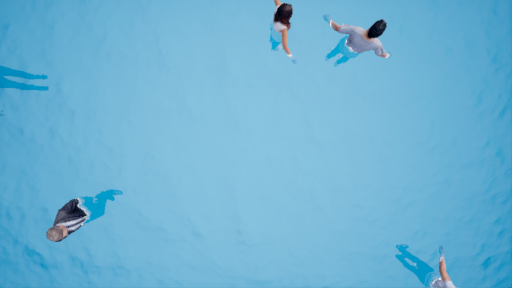person: (44, 184, 122, 245), (324, 13, 390, 76), (263, 1, 299, 67)
